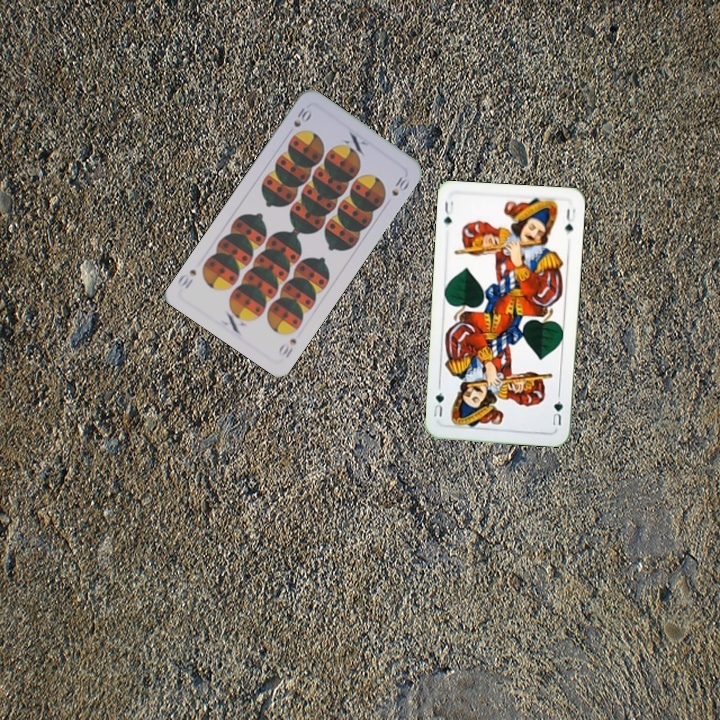GU: (548, 390, 565, 428), (440, 197, 456, 227)
S10: (289, 104, 315, 130), (274, 334, 299, 361)
